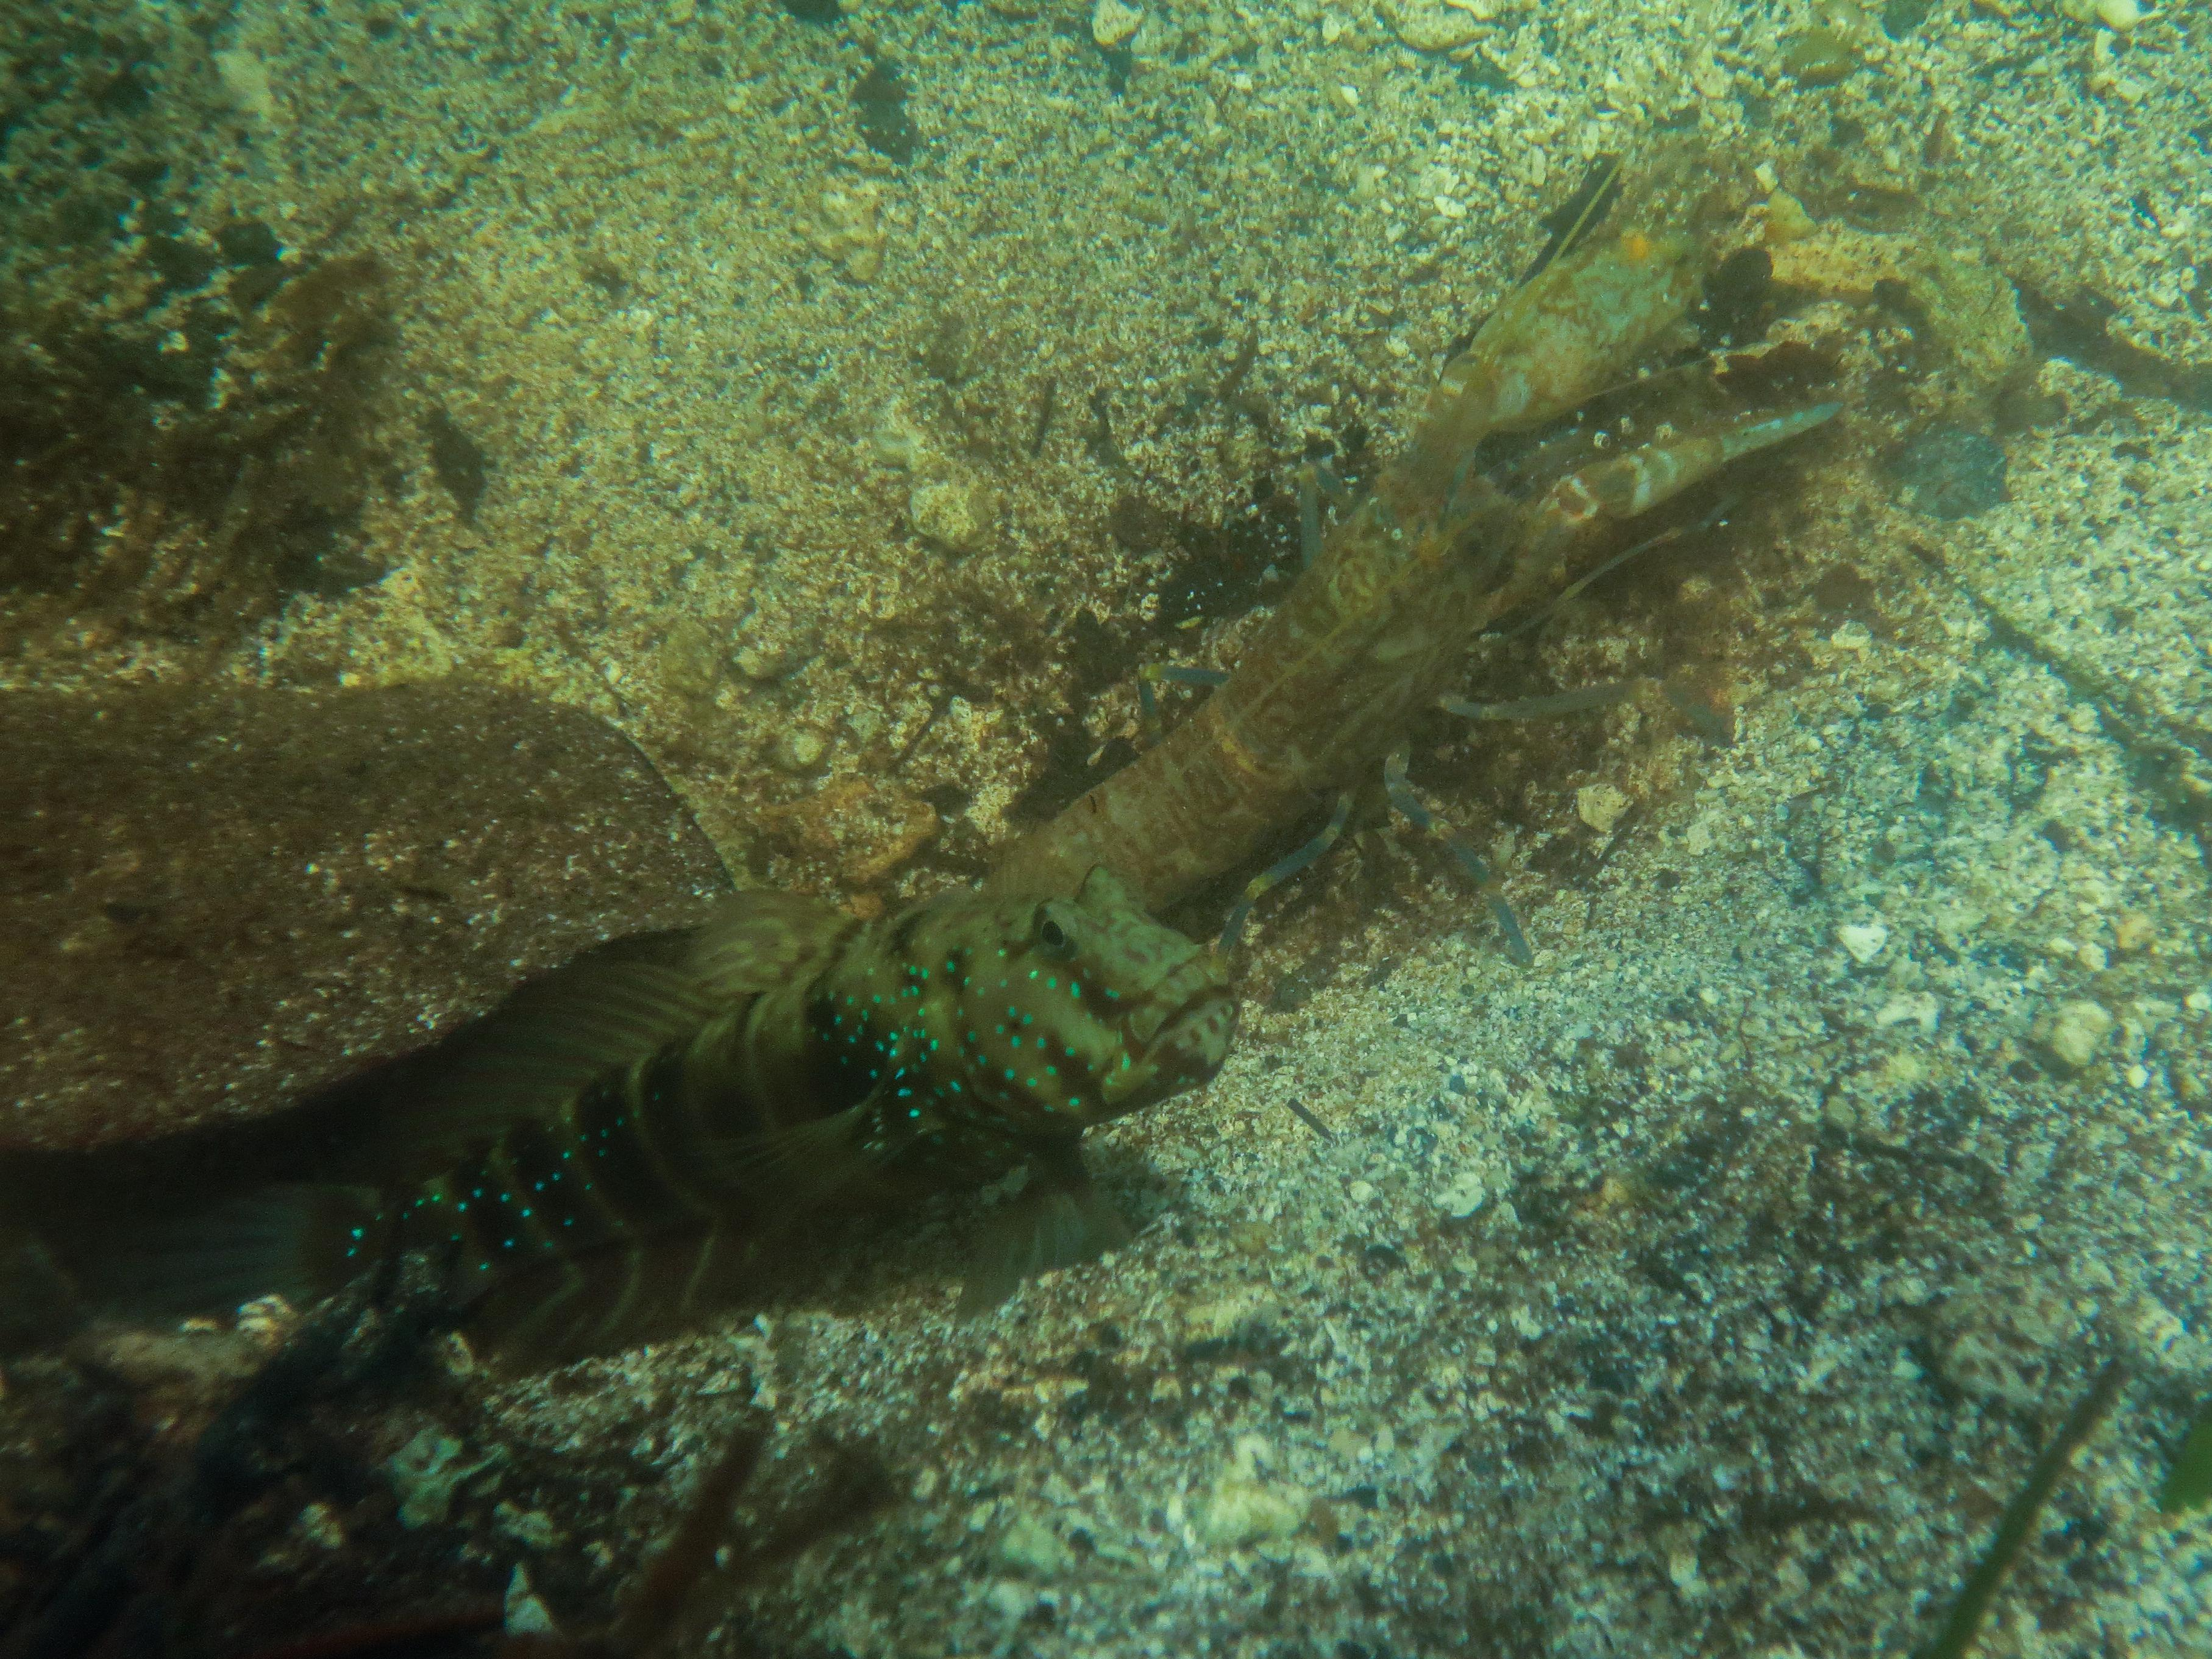Fish: (47, 805, 1586, 1480)
